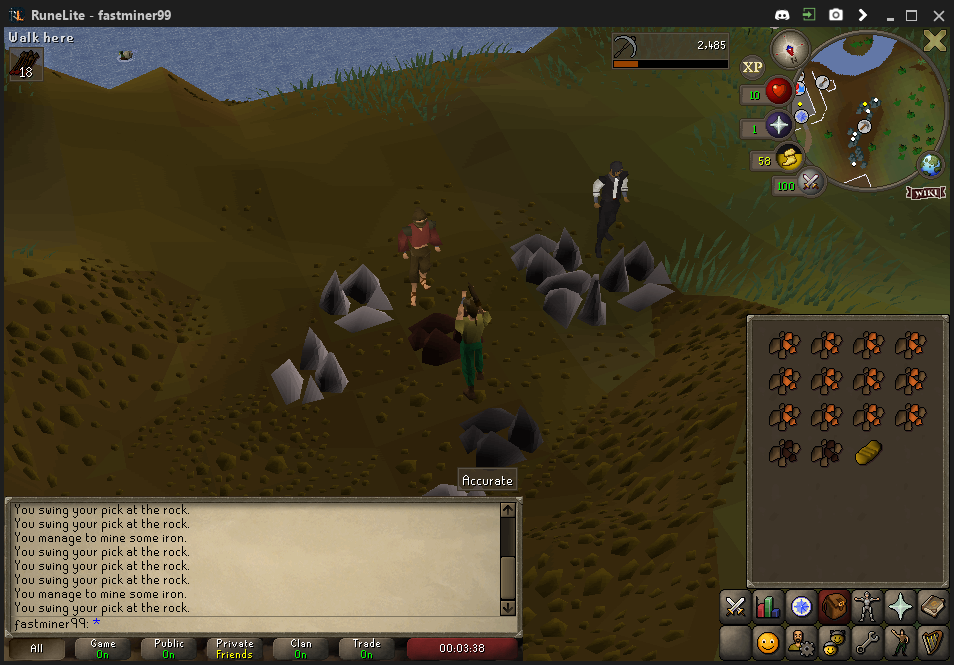depleted: (449, 399, 559, 468)
ore: (407, 313, 482, 364)
